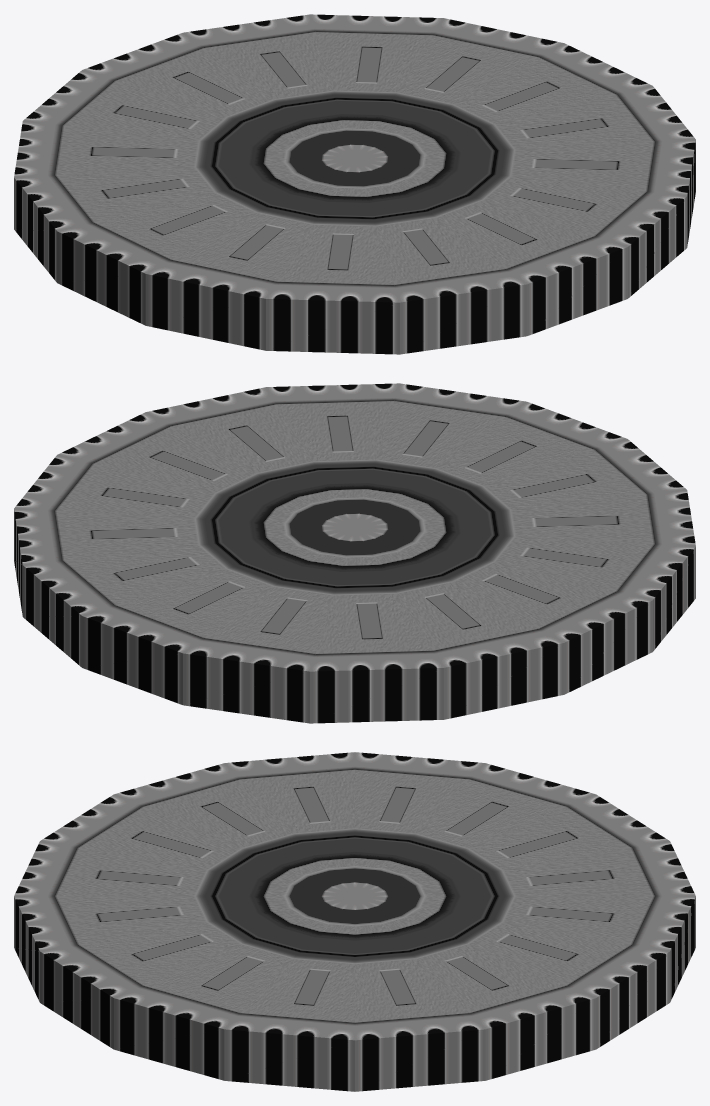
Rendered from test1_course-test_cylinder.glb.
3 renders of one model, top to bottom at view 1: azimuth 30°, elevation 25°; view 2: azimuth 150°, elevation 25°; view 3: azimuth 270°, elevation 25°, orthographic.
Visible parts, largest first — view 1: test_cylinder; view 2: test_cylinder; view 3: test_cylinder.
Boxes of the visible parts, x1,y1,x2,y2 form: test_cylinder: (14,14,695,354); test_cylinder: (14,383,695,723); test_cylinder: (14,752,695,1091).
Bounding box in the file's own units: 37.5 × 3.12 × 37.5.
1 material, 1 textured.
